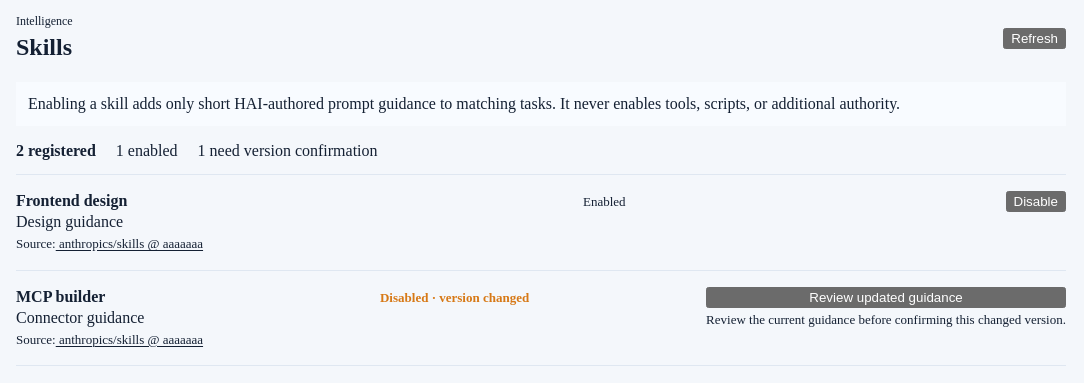
Test: SkillsComponent › requires a fresh inventory after an uncertain mutation before allowing another action
Step 1. Click the button with aria-label "Disable Frontend design" → (1036, 202), box [1006,191,1066,212]
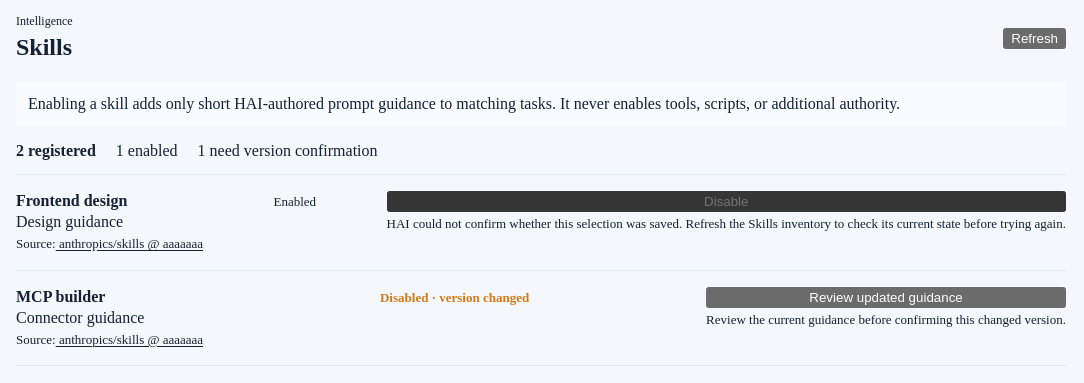
Step 2. Click the button with id "skills-refresh" → (1035, 38), box [1003,28,1066,48]
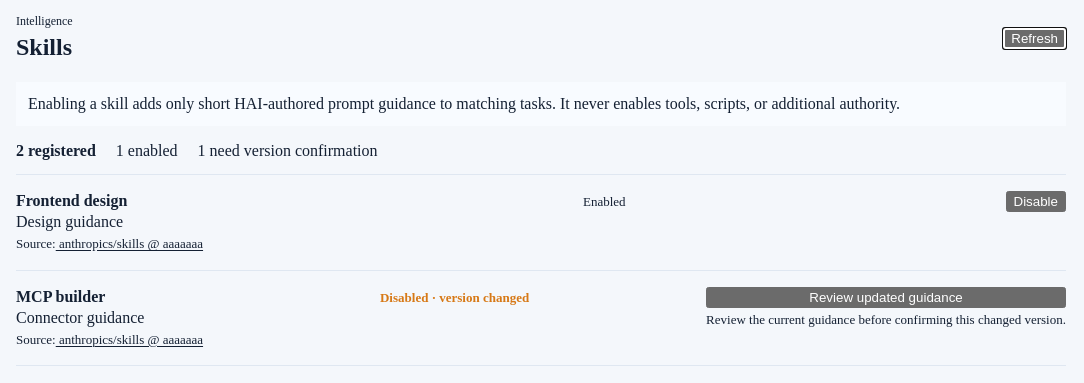
Expected: the button with aria-label "Disable Frontend design" is enabled, [1006,191,1066,212]
